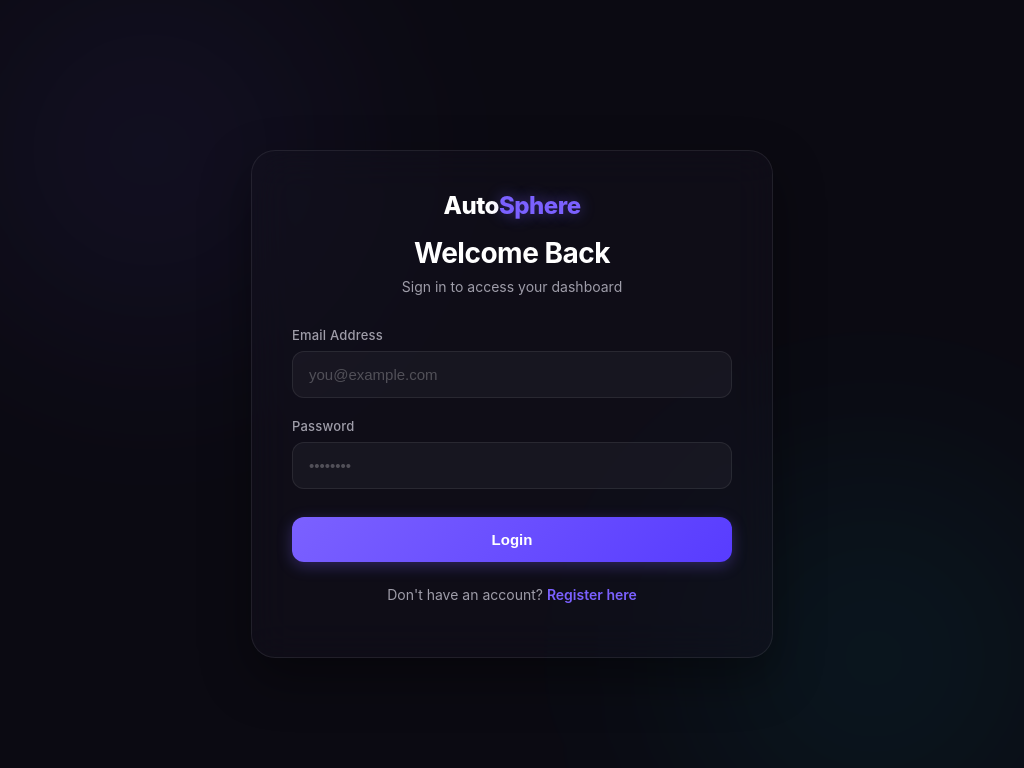
Test: Login Component › should display error message on login failure
Type "user@gmail.com" into the field labelled "Email Address" at (512,374), box [292,351,732,398]
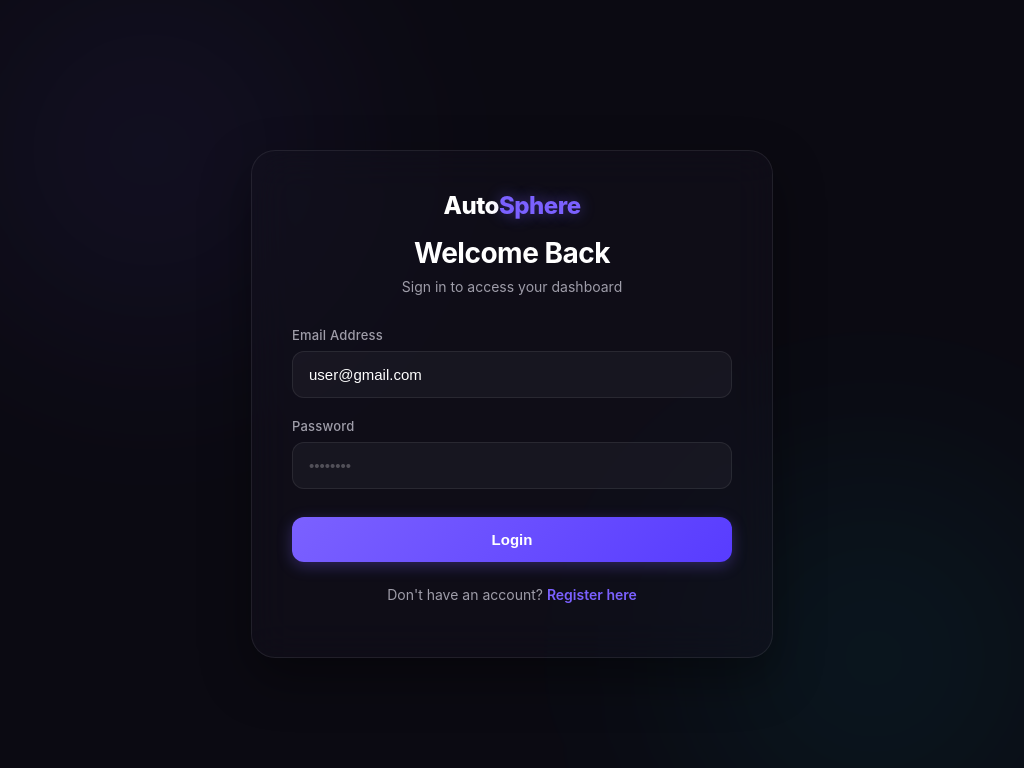
Type "wrongpassword" into the password field labelled "Password" at (512,466), box [292,442,732,489]
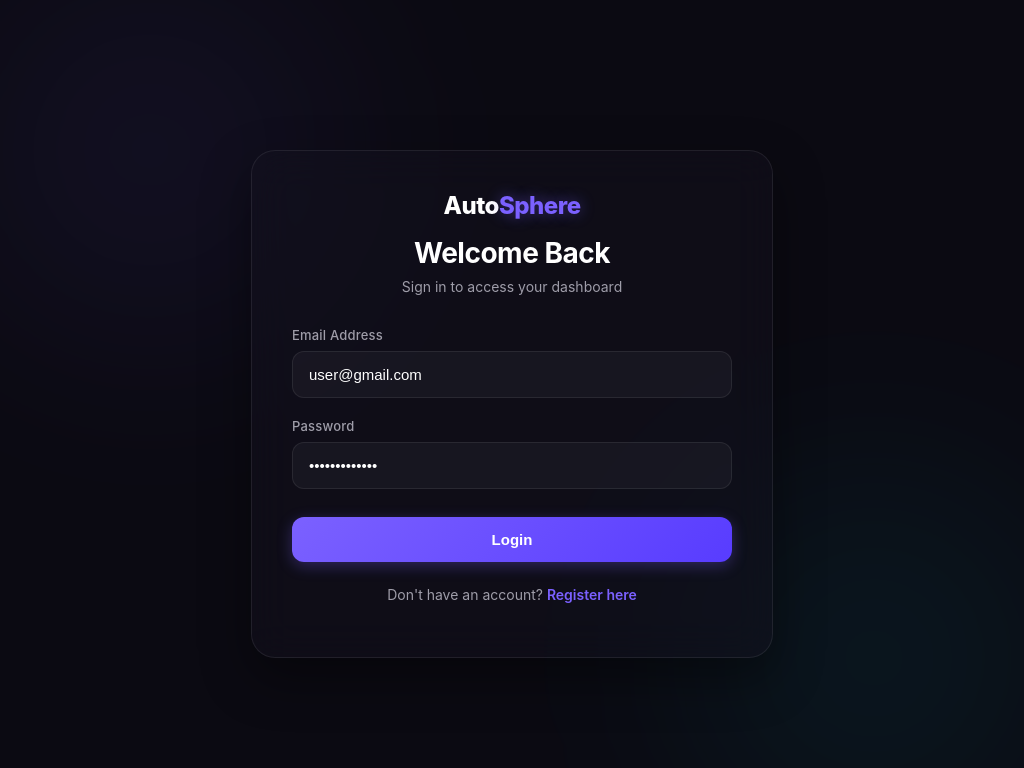
Click the button "Login" at (512,540), box [292,517,732,562]
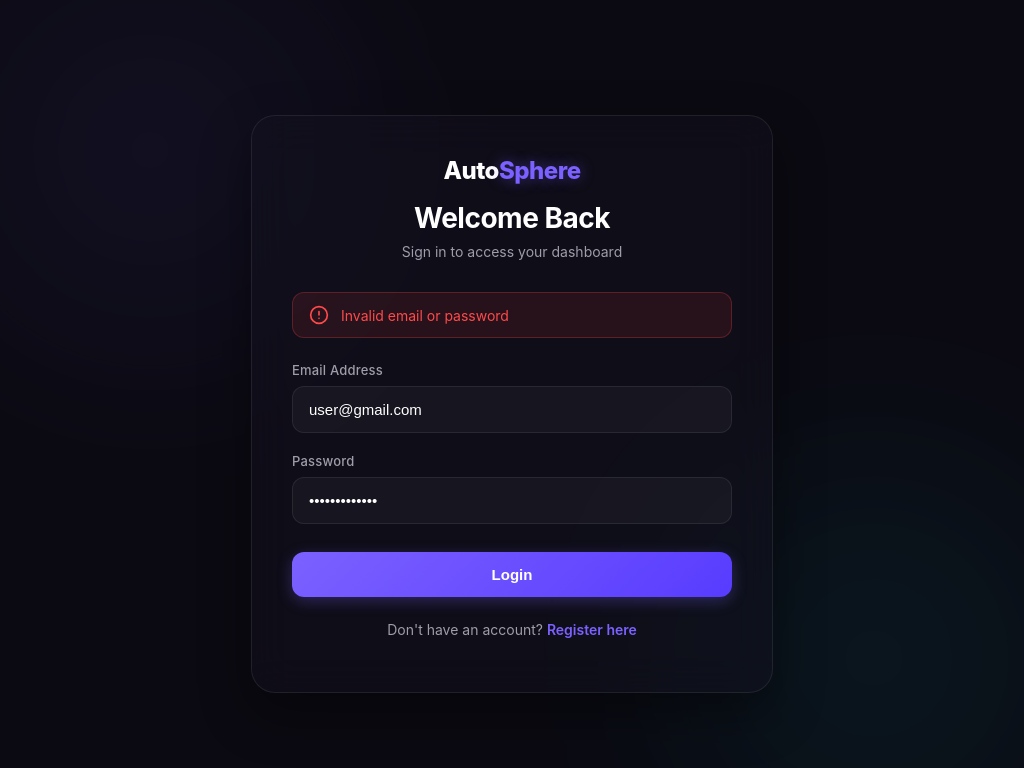
Expected: the text "Invalid email or password" is shown, [341,306,509,324]
